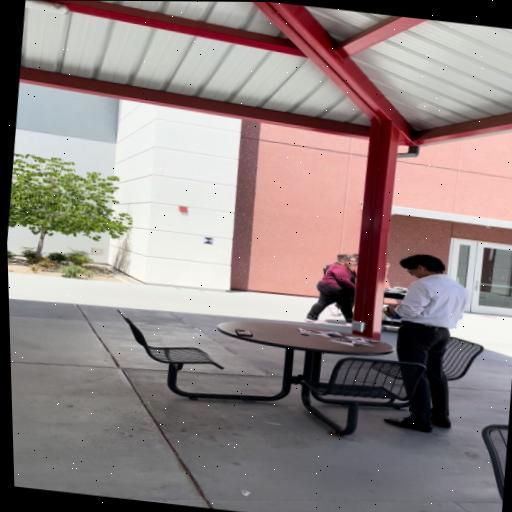target6: (203, 237, 215, 245)
